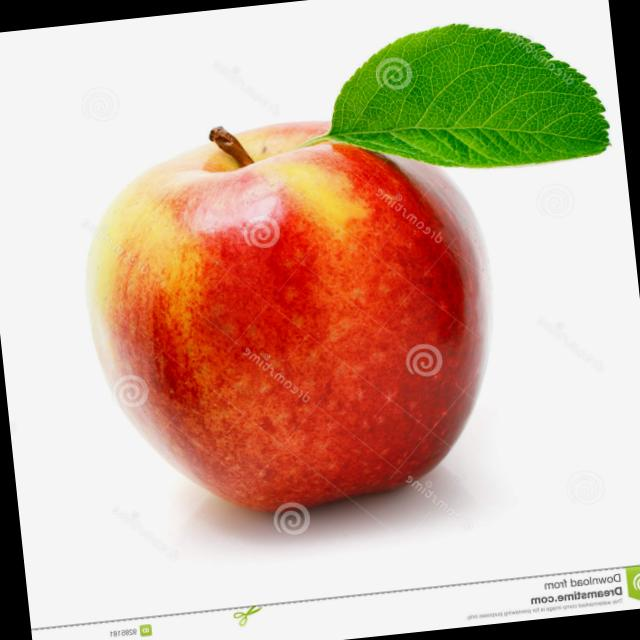apple: (58, 93, 520, 558)
